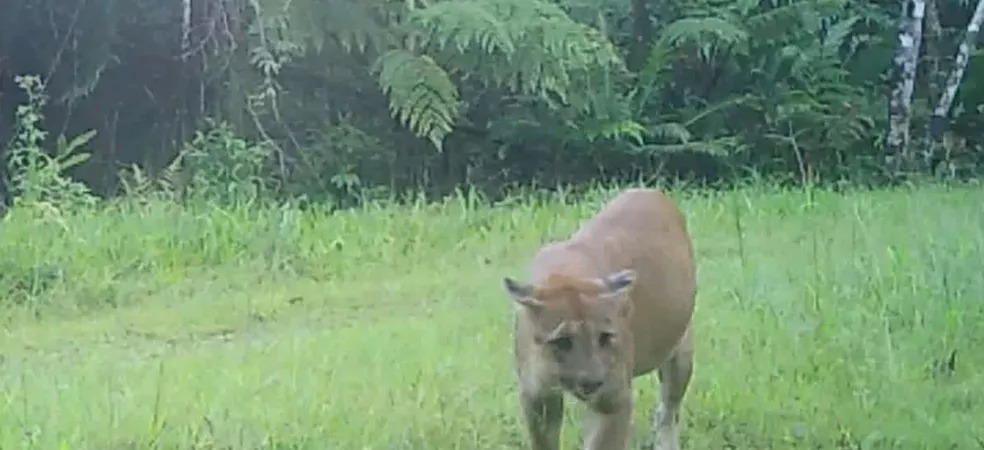OncaParda: (495, 179, 704, 440)
